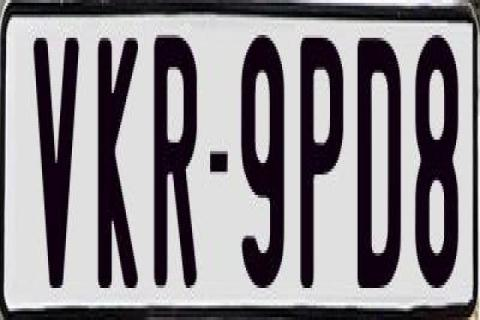0: (416, 29, 462, 294), (238, 32, 284, 291)
D: (358, 32, 408, 285)
K: (94, 35, 138, 297)
P: (296, 38, 344, 288)
R: (152, 26, 198, 282)
V: (33, 29, 83, 297)
